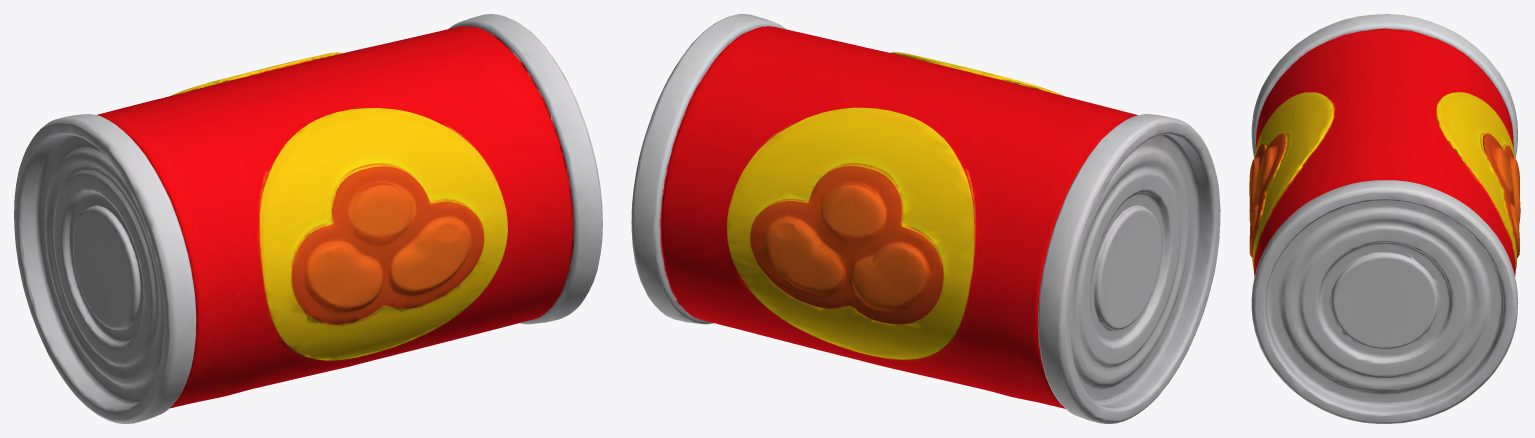
Rendered from beans.glb.
3 renders of one model, left to right at view 1: azimuth 30°, elevation 25°; view 2: azimuth 150°, elevation 25°; view 3: azimuth 270°, elevation 25°, orthographic. The views are drawn at different scales.
Visible parts, largest first — view 1: tripo_node_b624d53a-0b3d-4d41-b36a-28bf7479f2ce; view 2: tripo_node_b624d53a-0b3d-4d41-b36a-28bf7479f2ce; view 3: tripo_node_b624d53a-0b3d-4d41-b36a-28bf7479f2ce.
Boxes of the visible parts, bbox=[...] form: tripo_node_b624d53a-0b3d-4d41-b36a-28bf7479f2ce: bbox=[14, 14, 602, 423]; tripo_node_b624d53a-0b3d-4d41-b36a-28bf7479f2ce: bbox=[631, 14, 1220, 423]; tripo_node_b624d53a-0b3d-4d41-b36a-28bf7479f2ce: bbox=[1249, 14, 1520, 423].
Bounding box in the file's own units: 0.9807 × 0.6118 × 0.6342.
Materials: 1 (1 with a texture image).
